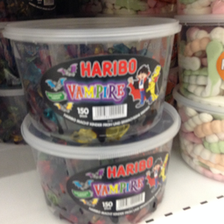candy: (3, 21, 182, 141), (19, 126, 184, 224)
